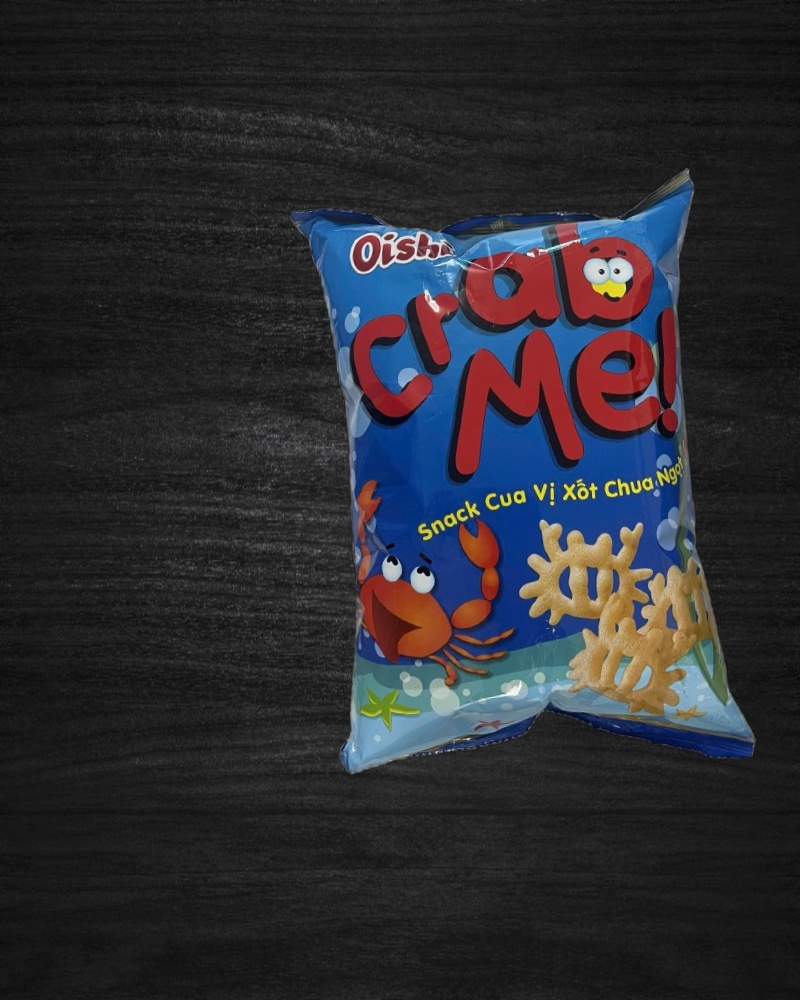Snack cua: (289, 167, 757, 788)
